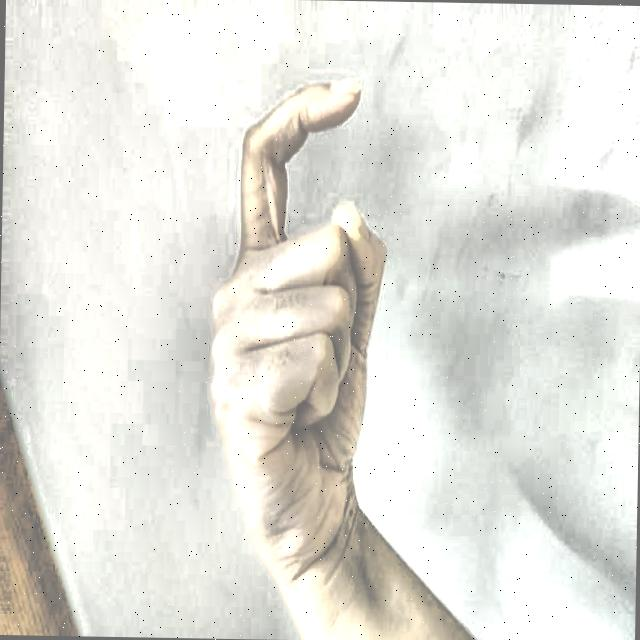E: (180, 44, 412, 546)
